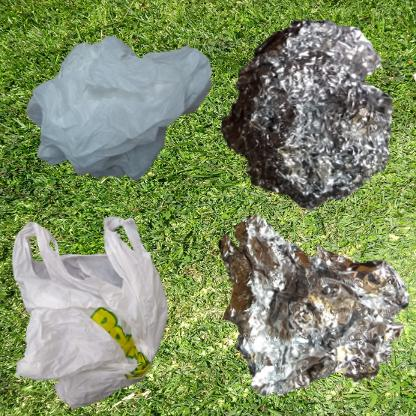aluminio: (213, 10, 403, 219), (213, 213, 412, 401)
bolsa: (10, 10, 256, 222), (10, 213, 172, 412)
